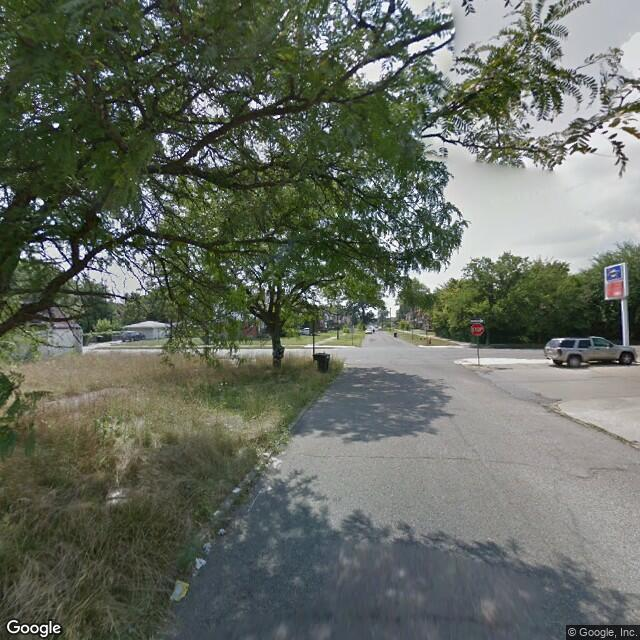litter: (260, 448, 283, 473), (167, 583, 198, 601), (212, 525, 230, 536), (194, 557, 211, 568), (201, 542, 210, 555), (233, 488, 243, 497)
